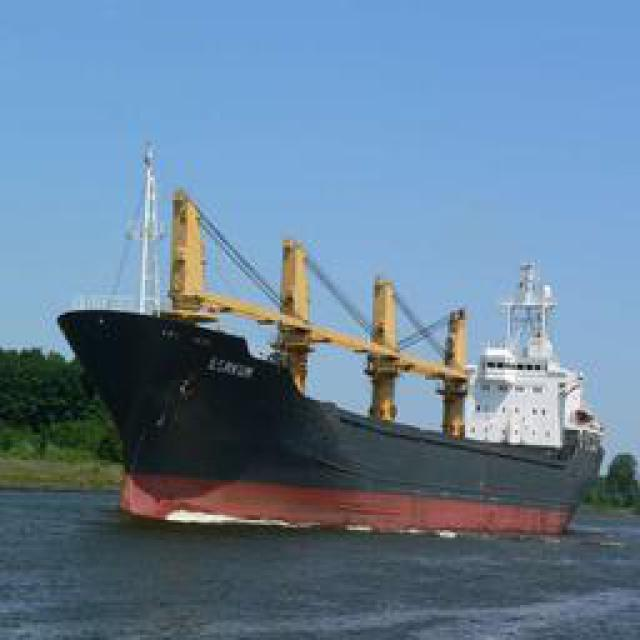Ship: (60, 181, 605, 541)
